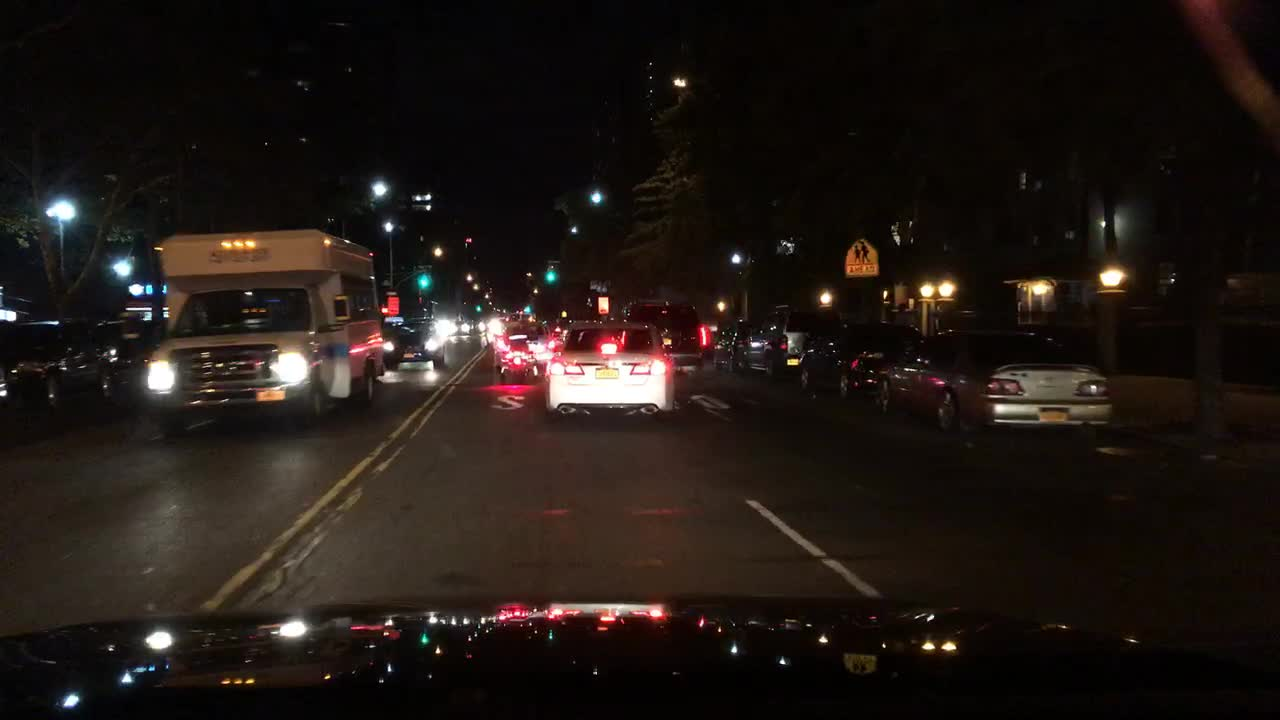car: (878, 323, 1113, 438), (543, 320, 673, 422), (1, 319, 100, 429), (795, 324, 923, 397), (618, 296, 710, 375), (94, 317, 165, 417), (836, 334, 923, 403), (764, 303, 841, 375), (492, 317, 548, 374), (384, 320, 443, 369), (724, 320, 769, 375), (705, 320, 736, 369), (479, 316, 505, 341), (542, 329, 563, 350), (447, 317, 467, 334), (464, 317, 484, 333), (547, 317, 568, 329), (433, 317, 448, 333)
person: (890, 303, 910, 331)
traffic light: (544, 269, 557, 283), (417, 273, 427, 290), (521, 306, 531, 315), (473, 303, 481, 313)
traffic sign: (843, 239, 877, 277), (384, 296, 399, 315), (597, 296, 607, 313), (379, 288, 396, 296)
truck: (140, 223, 384, 438)
